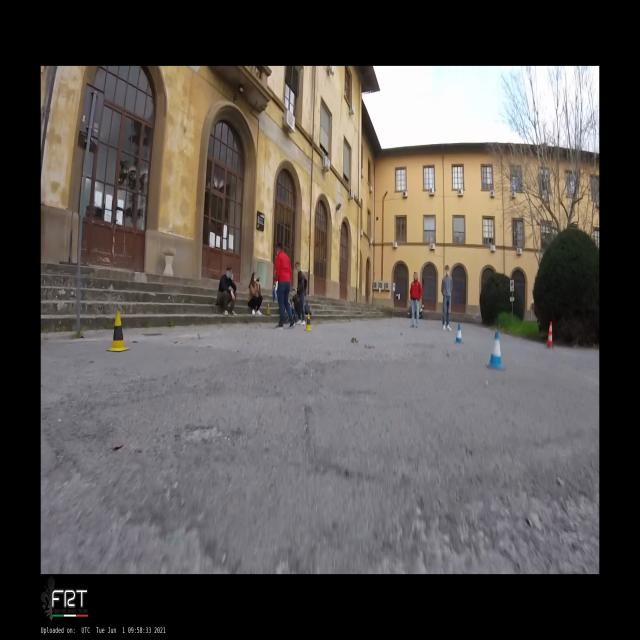blue_cone: (486, 332, 506, 371), (454, 324, 464, 344)
large_orange_cone: (546, 322, 554, 349)
unknown_cone: (265, 303, 271, 316)
yellow_cone: (106, 310, 130, 352), (304, 314, 312, 332)
